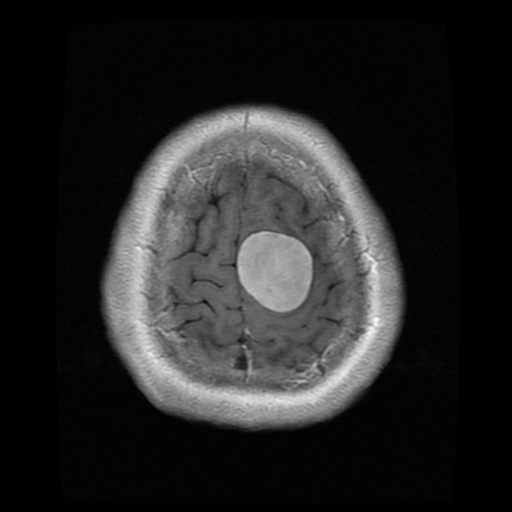meningioma: (238, 231, 312, 312)
